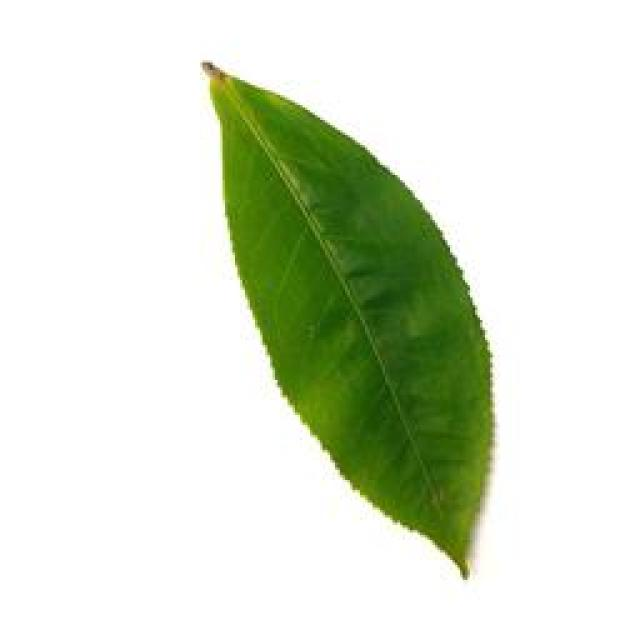Healthy: (189, 47, 516, 587)
